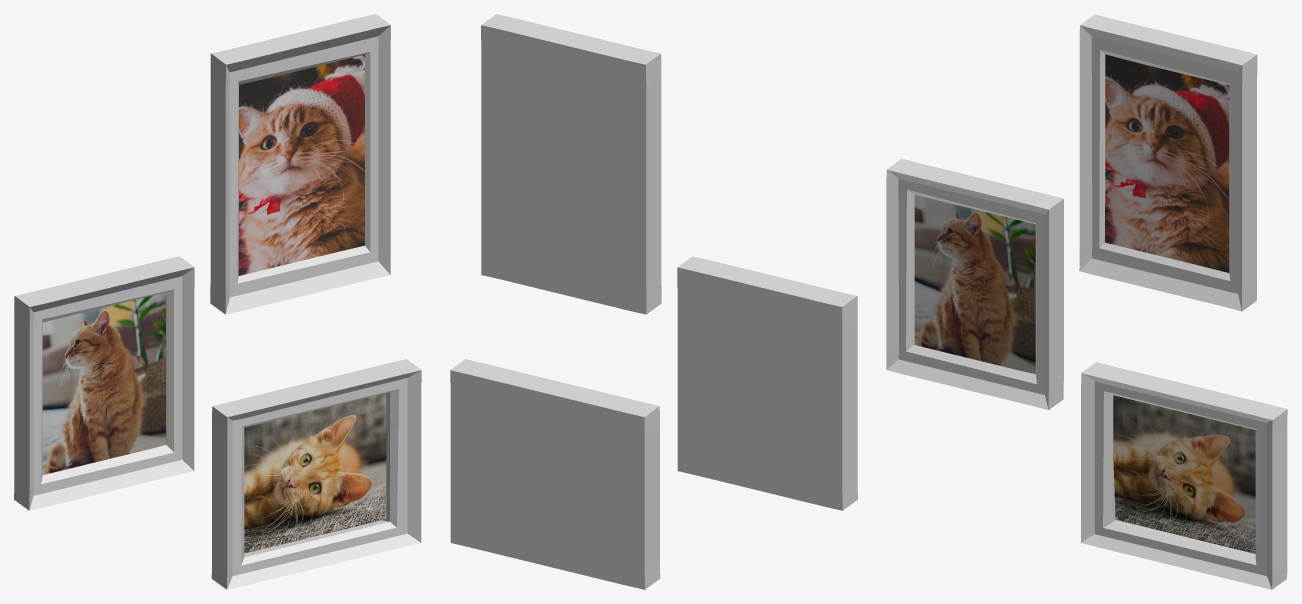
Rendered from ramki 1.fbx.
The picture shows the model from 3 angles, left to right: view 1: azimuth 30°, elevation 25°; view 2: azimuth 150°, elevation 25°; view 3: azimuth 330°, elevation 25°; orthographic projection.
Parts seen in each view (by area): view 1: kot2, ramka1.001, ramka1.002, ramka1, kot1, kot3; view 2: ramka1.001, ramka1, ramka1.002; view 3: kot2, ramka1.001, ramka1.002, ramka1, kot1, kot3.
Boxes of the visible parts, x1,y1,x2,y2 form: kot2: (238,55,364,275); ramka1.001: (210,14,390,314); ramka1.002: (211,359,421,589); ramka1: (14,256,194,510); kot1: (42,292,166,474); kot3: (244,393,386,553); ramka1.001: (481,14,661,314); ramka1: (677,256,857,510); ramka1.002: (450,359,660,589); kot2: (1105,54,1229,272); ramka1.001: (1079,14,1257,311); ramka1.002: (1081,362,1287,589); ramka1: (886,158,1063,409); kot1: (914,195,1035,373); kot3: (1113,395,1255,553).
Size of the model in its own units: 2339 by 2996 by 159.
Materials: 15 (3 with a texture image).
